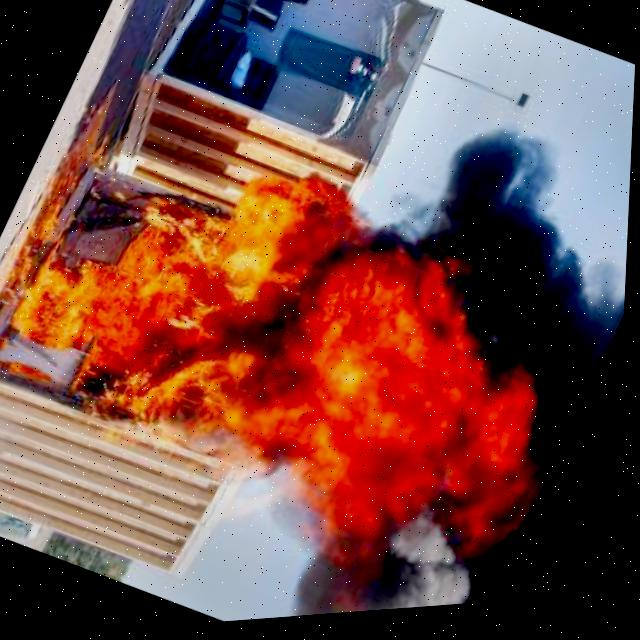Fire: (0, 72, 620, 614)
Smoke: (400, 101, 635, 348), (268, 500, 511, 623)
